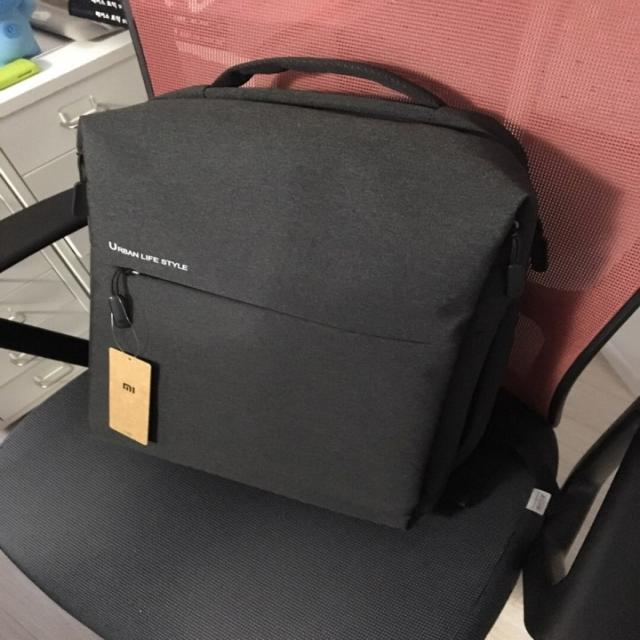backpack: (35, 46, 558, 521)
